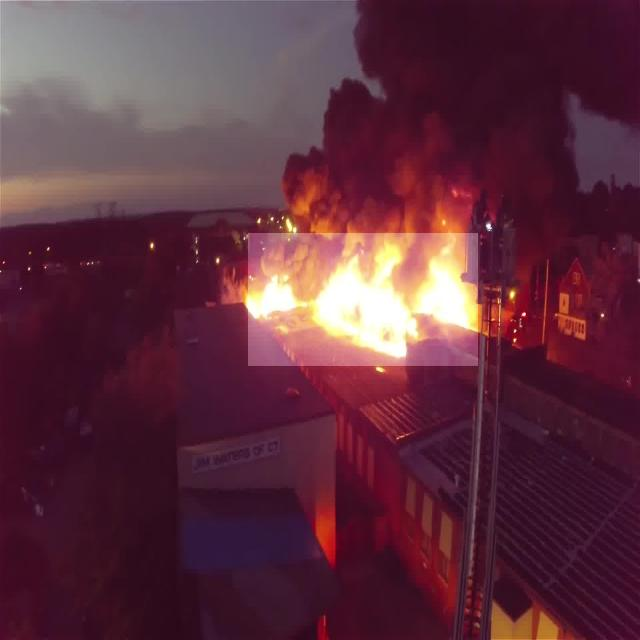Fire: (248, 233, 478, 366)
